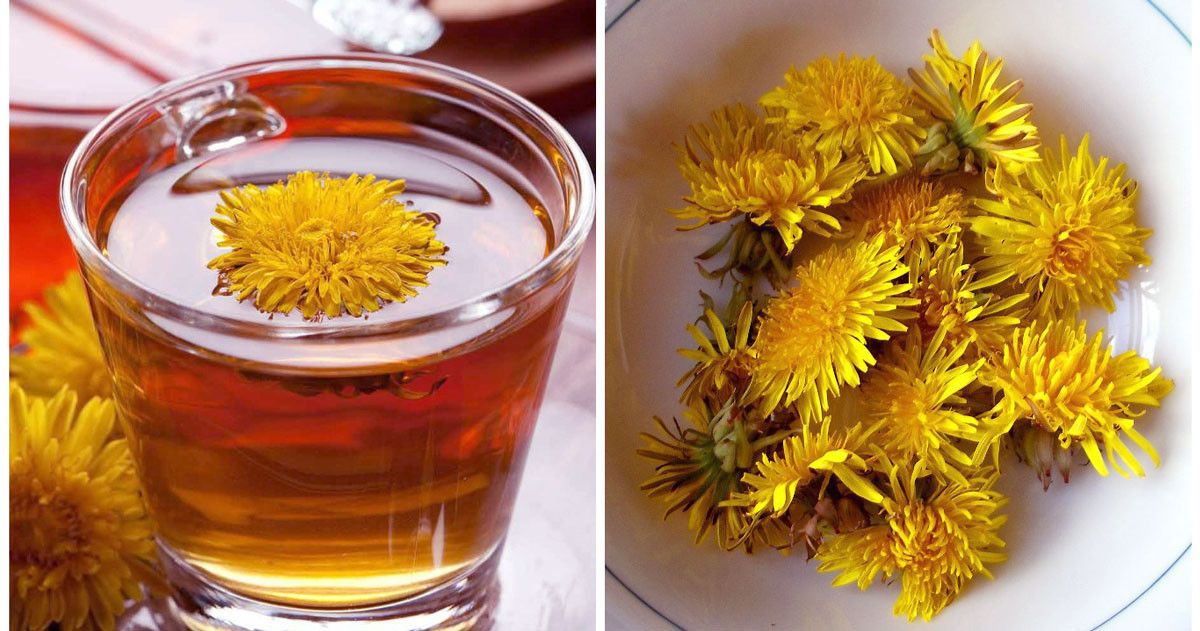begonvil: (0, 330, 162, 631), (201, 158, 444, 321), (958, 308, 1164, 463), (981, 145, 1148, 321), (653, 98, 850, 247), (723, 246, 898, 403), (871, 476, 1022, 627), (911, 28, 1054, 185), (773, 58, 932, 179)
